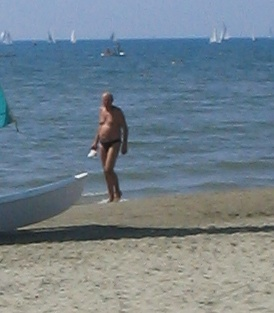person: (88, 89, 131, 201)
